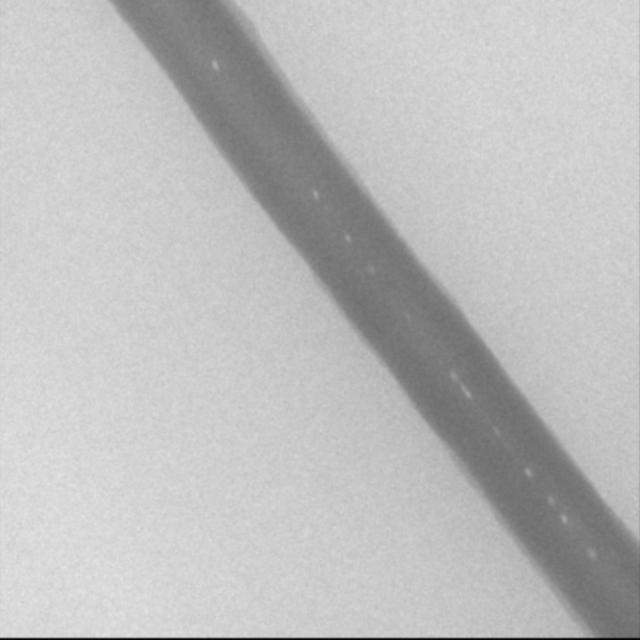air hole: (544, 492, 556, 508), (448, 368, 459, 383), (587, 546, 598, 561), (523, 465, 534, 479), (210, 59, 221, 72), (311, 188, 320, 202), (343, 230, 352, 244), (559, 514, 569, 526)
